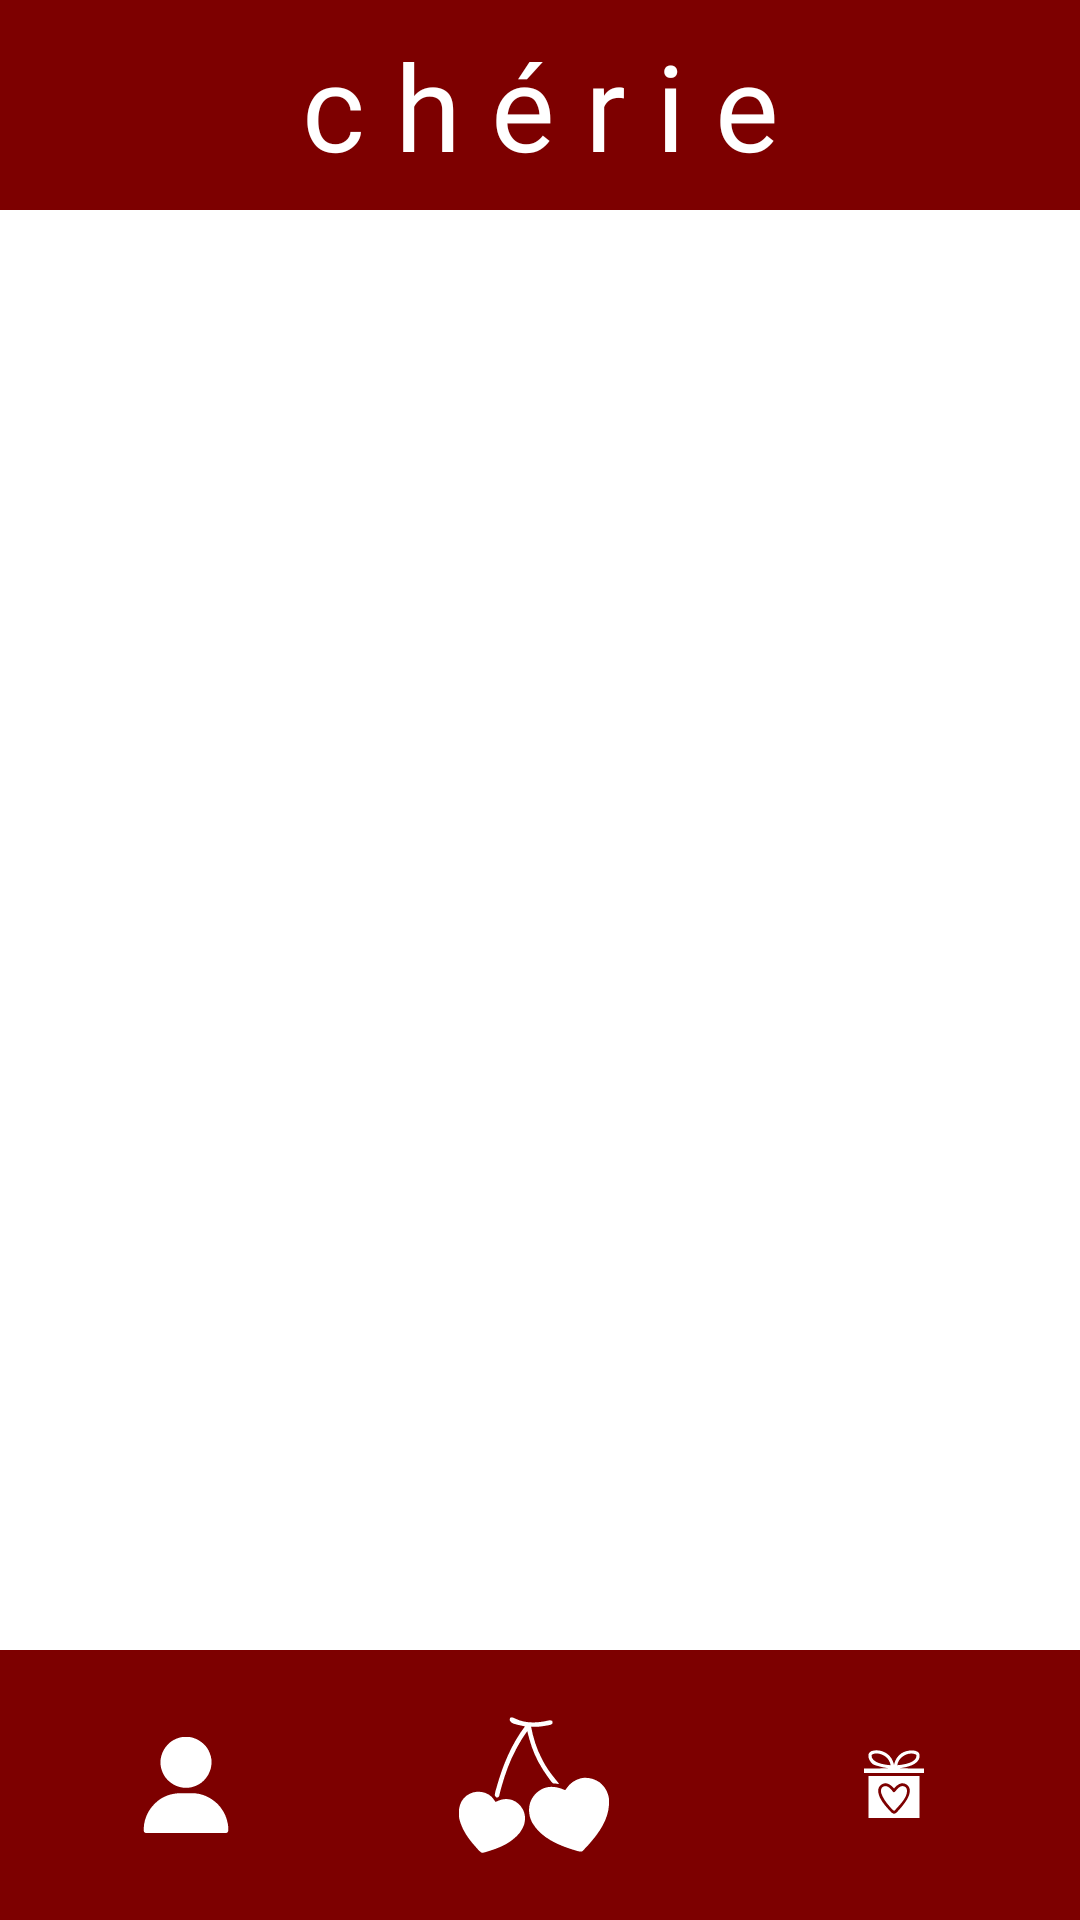

Icon bounding boxes for this 1080*1920 phone screenshot, format [left=x1, top=y1, right=x2, bottom=y2]:
Profile: [left=143, top=1737, right=229, bottom=1833]
